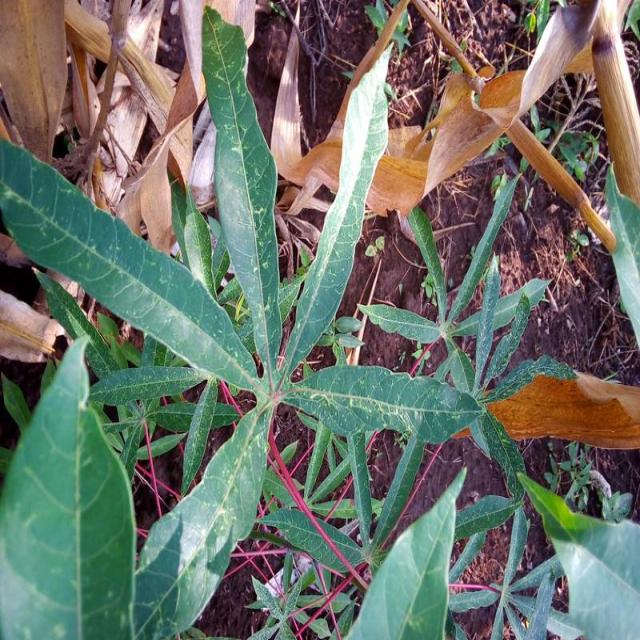cassava leaf: (0, 2, 638, 638), (0, 136, 261, 392), (0, 334, 137, 638), (280, 40, 393, 382), (132, 399, 273, 638), (200, 4, 282, 383), (344, 464, 468, 638), (516, 470, 638, 638)
